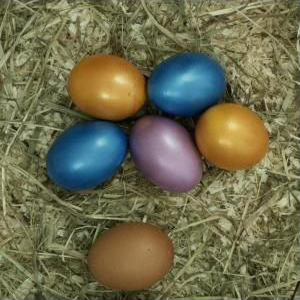egg: (46, 122, 129, 190), (132, 115, 203, 192), (68, 55, 146, 122), (148, 53, 227, 117)
